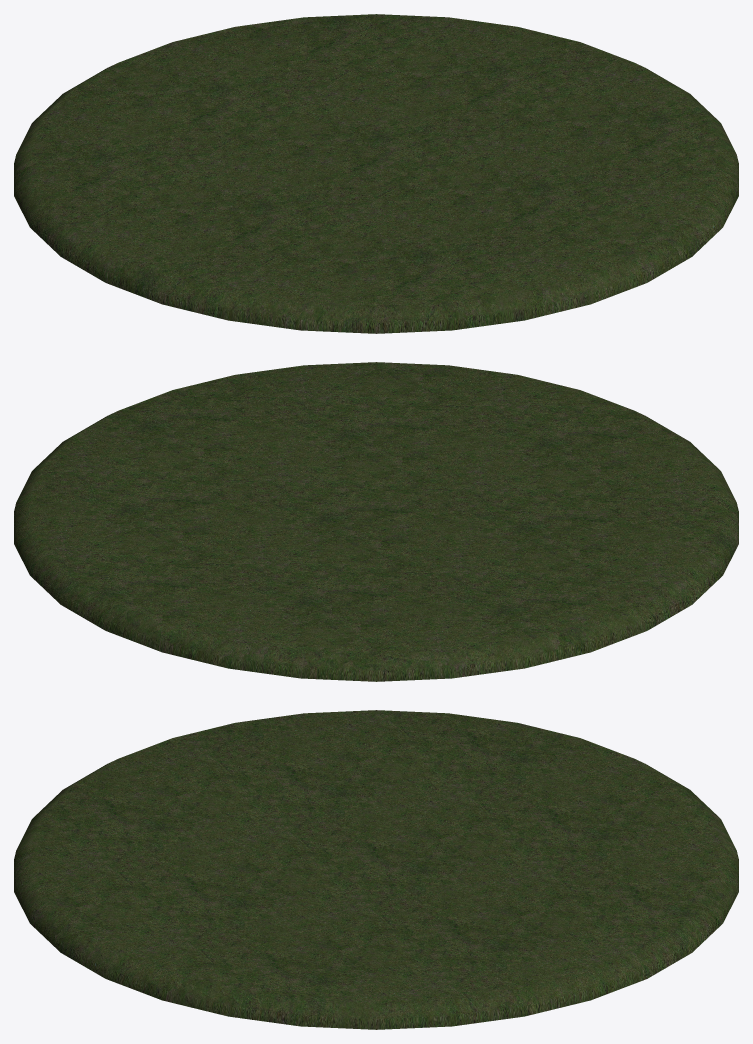
Rendered from Ground.gltf.
The picture shows the model from 3 angles, top to bottom: view 1: azimuth 30°, elevation 25°; view 2: azimuth 150°, elevation 25°; view 3: azimuth 270°, elevation 25°; orthographic projection.
Parts seen in each view (by area): view 1: Ground; view 2: Ground; view 3: Ground.
Boxes of the visible parts, <box> form: Ground: <box>14,14,738,333</box>; Ground: <box>14,362,738,681</box>; Ground: <box>14,710,738,1029</box>.
Size of the model in its own units: 4370 by 126 by 4346.
1 material, 1 textured.
